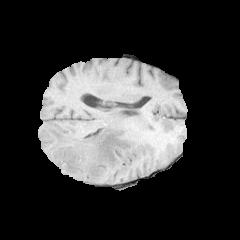glioma: (47, 126, 139, 179)
